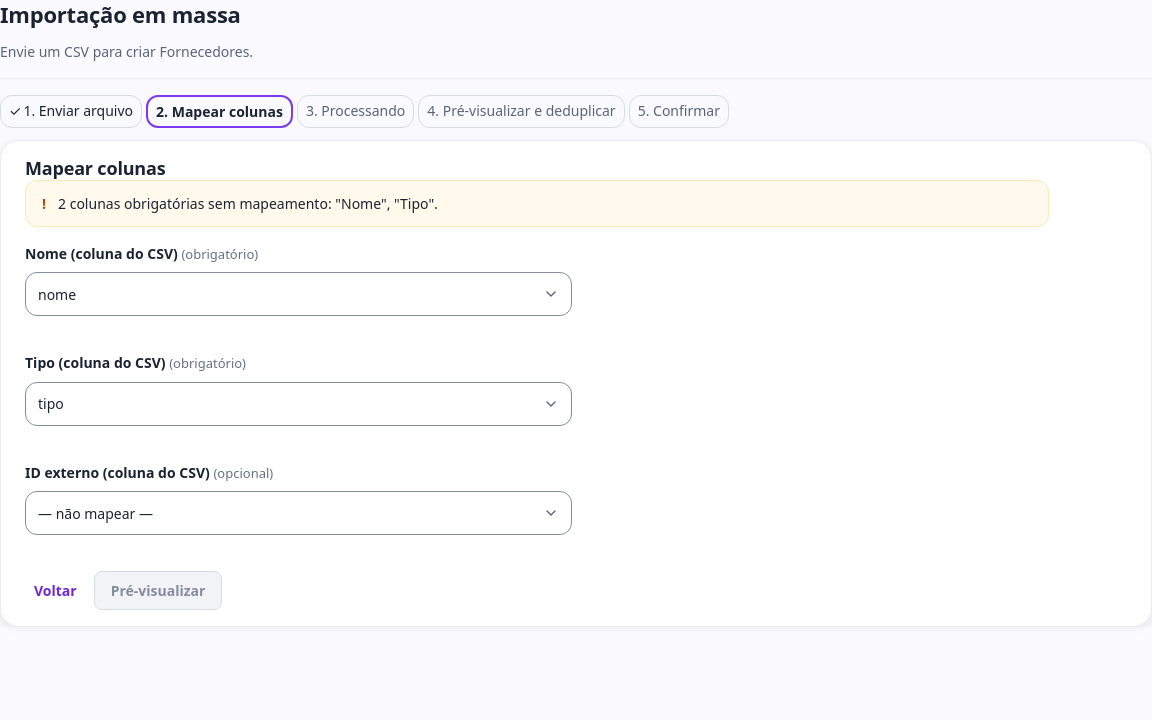
Test: ImportWizard — mapping step (AWAITING_MAPPING only - see the UPLOADED-safety describe above) › warns about a required field with no detected column, AND blocks Pré-visualizar (Codex round 1, real finding: an unconfirmed fallback value must not submit sile
Check: the text "2 colunas obrigatórias sem mapeamento: \"Nome\", \"Tipo\"." is shown, box [58, 193, 438, 214]
Check: the button "Pré-visualizar" is disabled, box [94, 572, 222, 610]
Note: Explicitly choosing a real header for both required fields confirms them and unblocks it.
Select "nome" in the dropdown labelled "Nome (coluna do CSV) (obrigatório)" at (298, 294), box [25, 272, 572, 316]
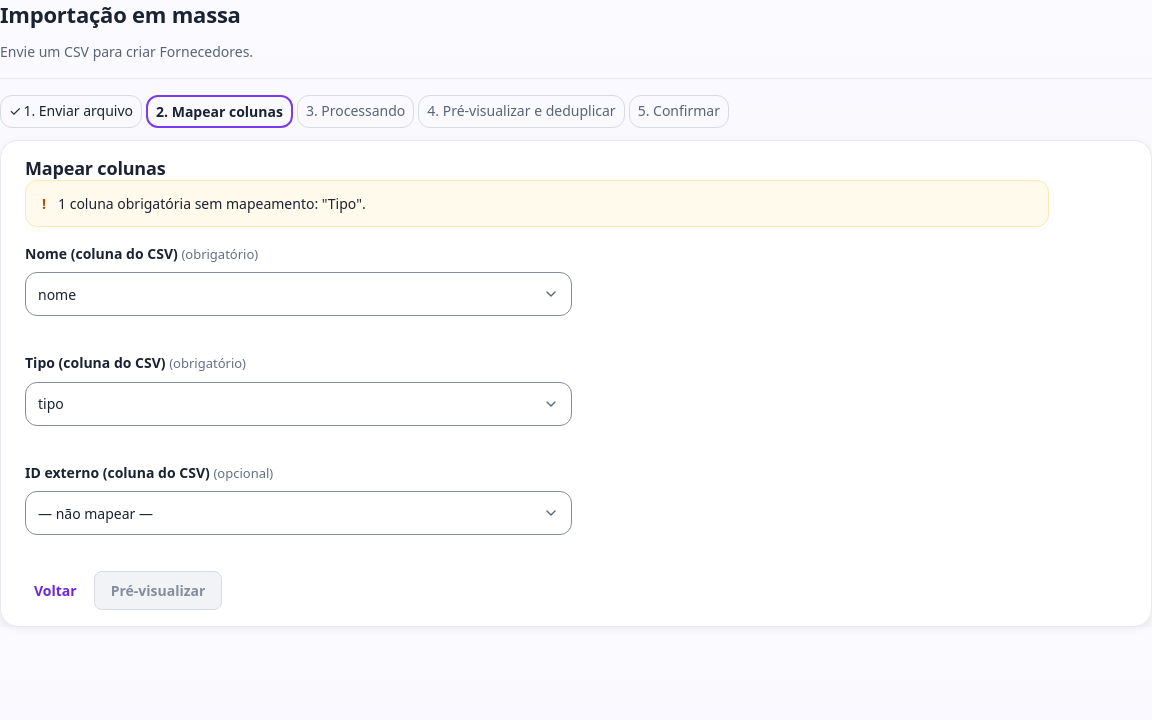
Select "tipo" in the dropdown labelled "Tipo (coluna do CSV) (obrigatório)" at (298, 404), box [25, 382, 572, 426]
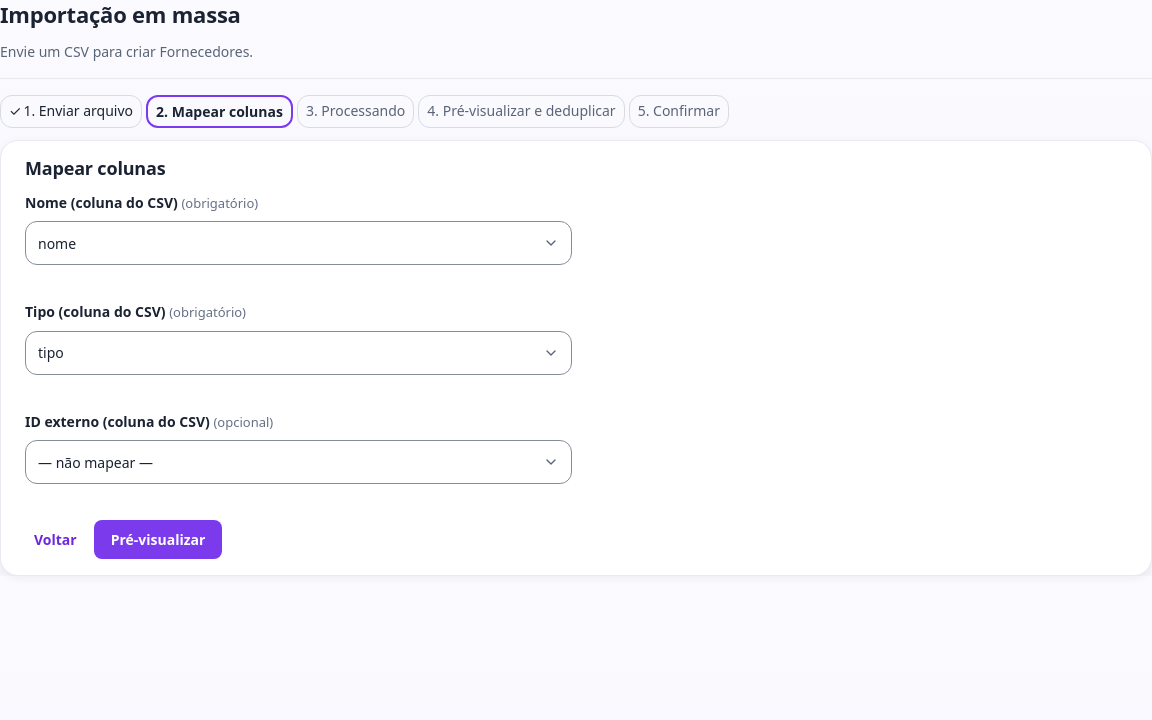
Check: the button "Pré-visualizar" is enabled, box [94, 520, 222, 560]
